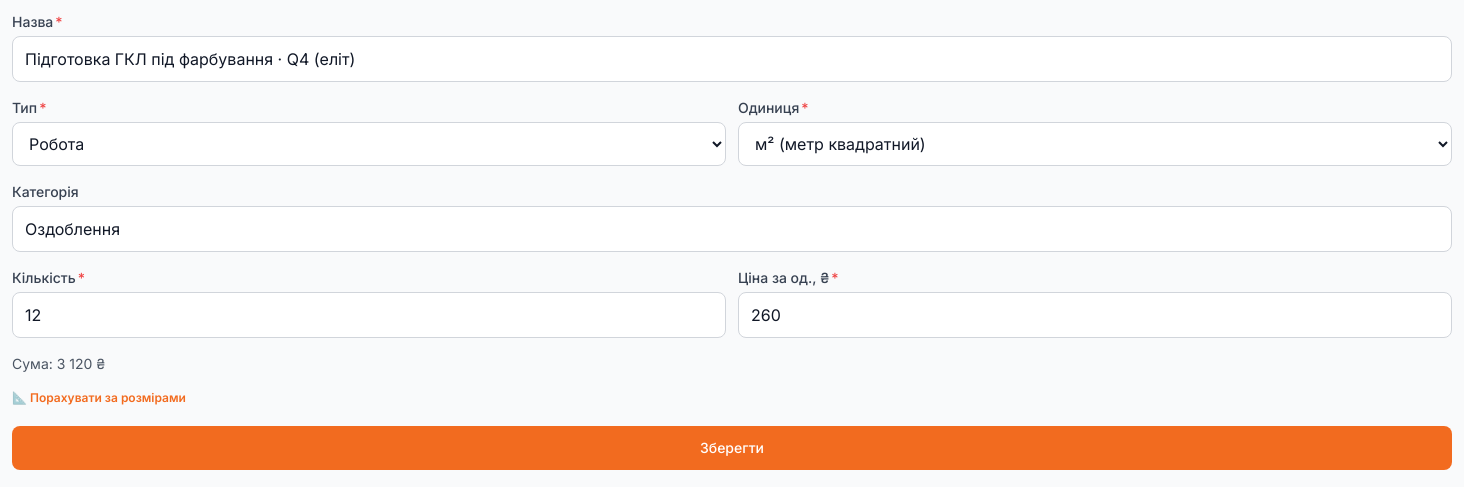
Test: ItemForm — the live line sum › shows quantity × price and follows the typing
Replace the text in the field labelled "Кількість*" with "2,5" at (369, 315), box [12,292,726,338]
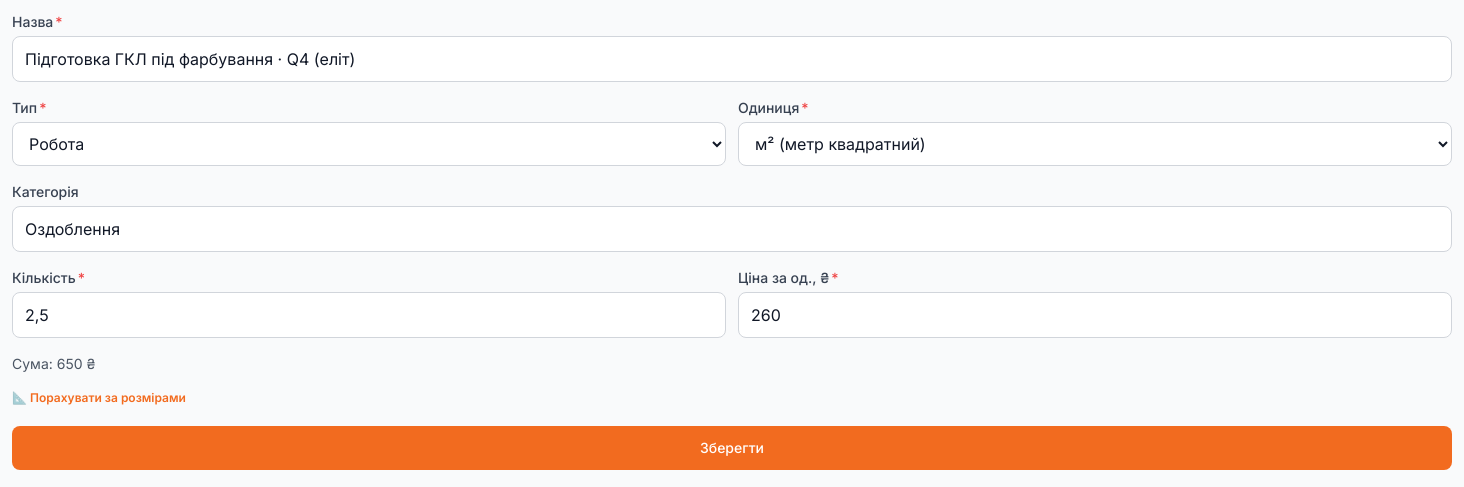
expect the text with test id "line-sum" reads "Сума: 650 ₴": met, box [12,355,95,372]
